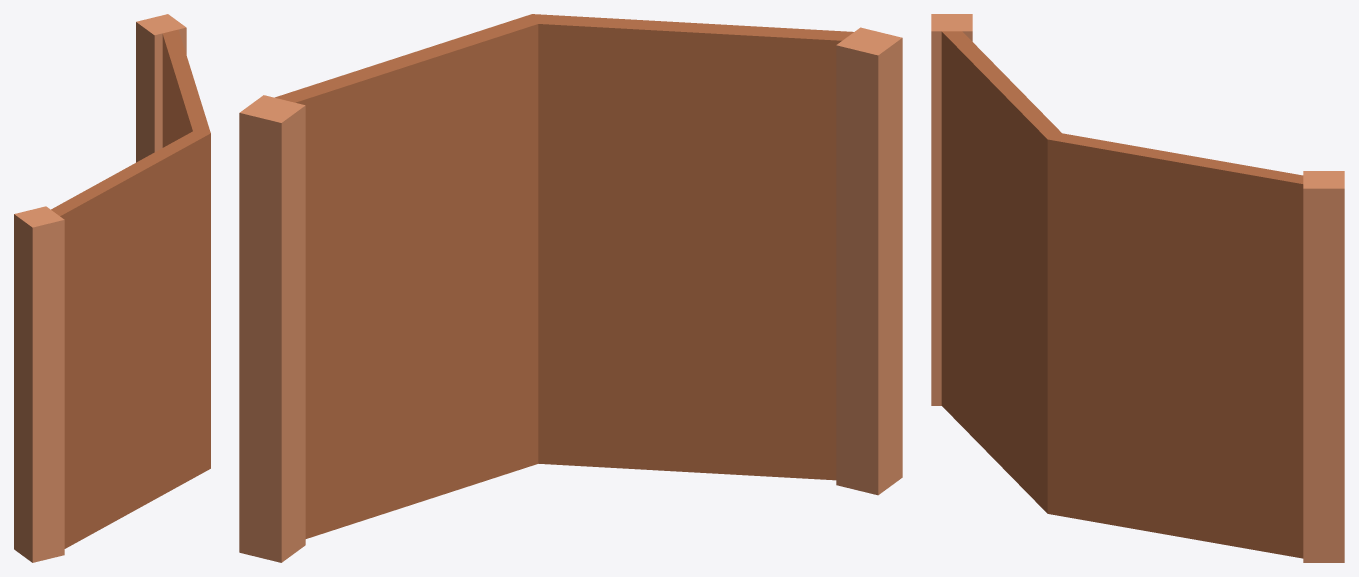
File: wallWoodCornerEdge.fbx
3 views of the same model, side by side, from view 1: azimuth 30°, elevation 25°; view 2: azimuth 150°, elevation 25°; view 3: azimuth 270°, elevation 25° (orthographic). The views are drawn at different scales.
Visible parts, largest first — view 1: wallWoodCornerEdge; view 2: wallWoodCornerEdge; view 3: wallWoodCornerEdge.
Boxes of the visible parts, x1,y1,x2,y2 form: wallWoodCornerEdge: [14, 14, 210, 562]; wallWoodCornerEdge: [239, 14, 902, 562]; wallWoodCornerEdge: [931, 14, 1344, 562].
Bounding box in the file's own units: 10 × 10 × 10.
